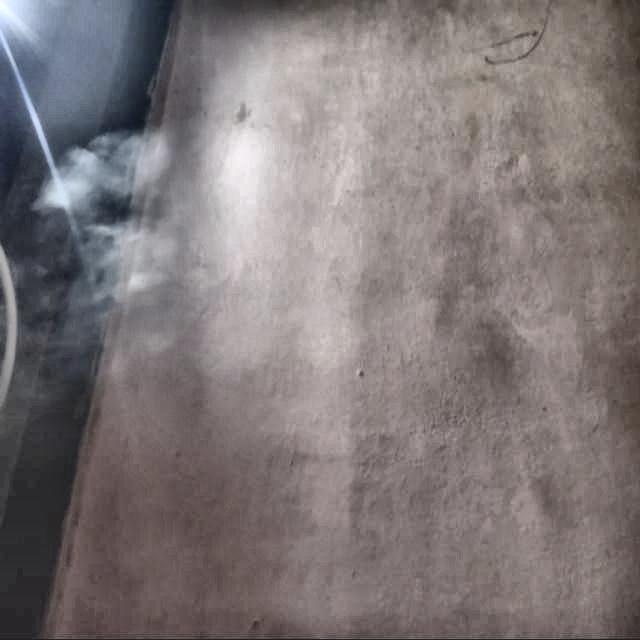smoke: (50, 111, 217, 319)
